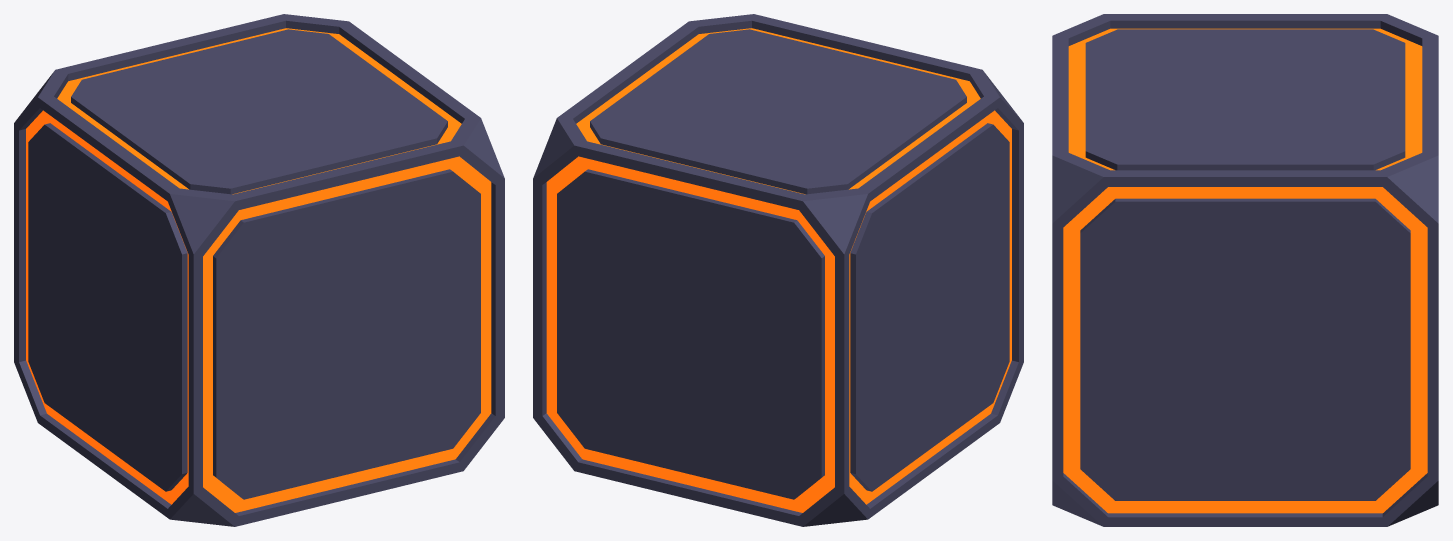
File: MetalBox_02.fbx
3 views of the same model, side by side, from view 1: azimuth 30°, elevation 25°; view 2: azimuth 150°, elevation 25°; view 3: azimuth 270°, elevation 25° (orthographic). The views are drawn at different scales.
Visible parts, largest first — view 1: MetalBox_02; view 2: MetalBox_02; view 3: MetalBox_02.
Boxes of the visible parts, box(x1,y1,x2,y2) form: MetalBox_02: box(14, 14, 504, 526); MetalBox_02: box(533, 14, 1023, 526); MetalBox_02: box(1052, 14, 1438, 526).
Bounding box in the file's own units: 268 × 268 × 268.
